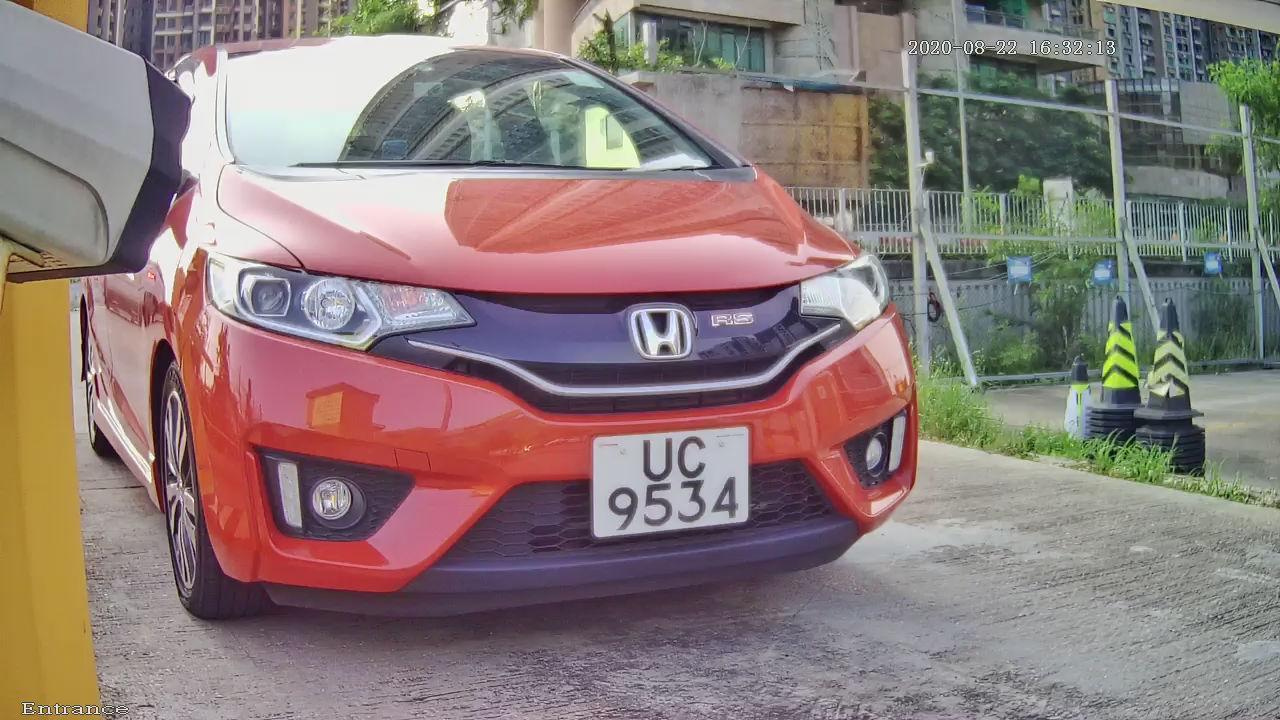License Plate: (578, 409, 761, 544)
